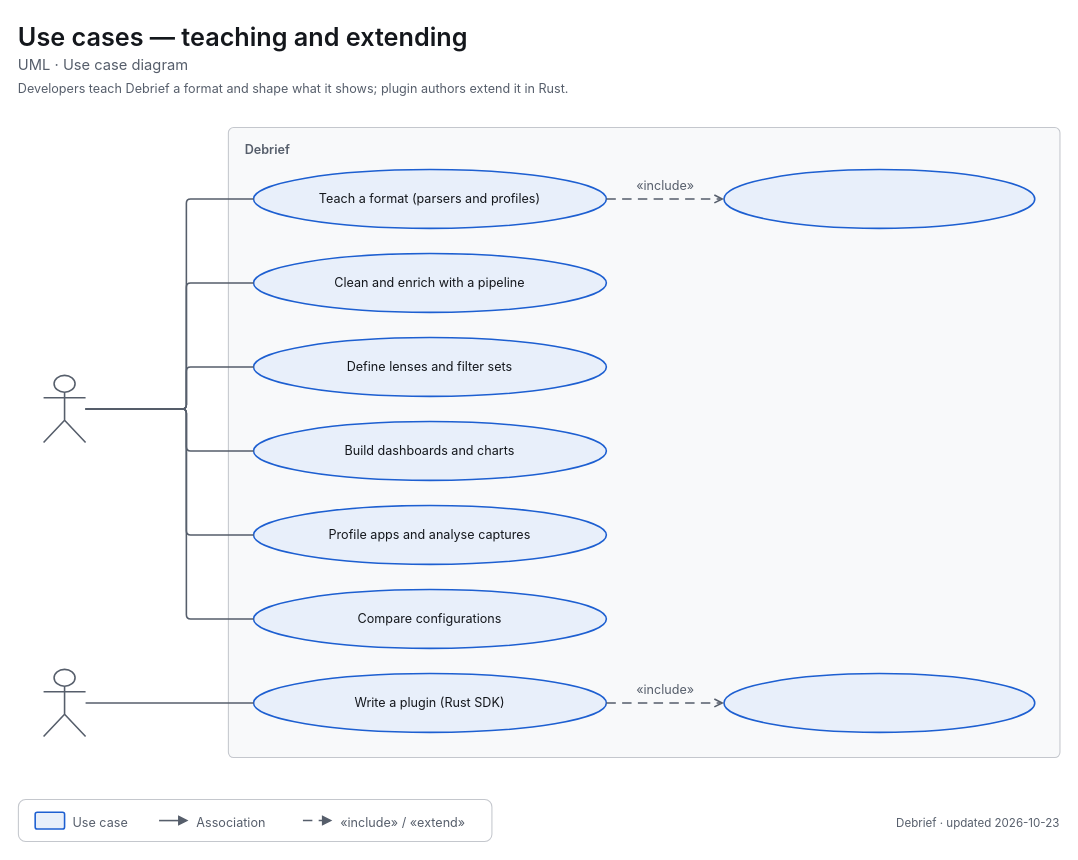
Image size: 1078x860. Some labels were removed from this diagram. Here are the shapes that lost their labels. From the top down, the box of each, then its label:
(723, 168, 1035, 229): Preview the extraction
(42, 374, 86, 443): Developer
(42, 668, 86, 737): Plugin author
(723, 672, 1035, 733): Test and package a plugin
